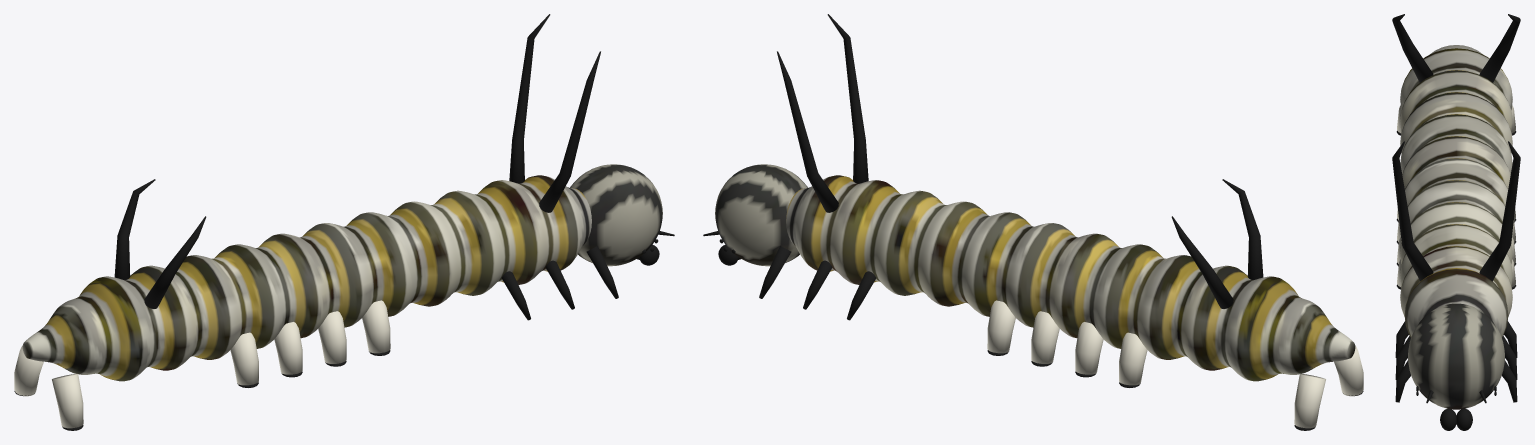
File: monarch_larva_hybrid.glb
The picture shows the model from 3 angles, left to right: view 1: azimuth 30°, elevation 25°; view 2: azimuth 150°, elevation 25°; view 3: azimuth 270°, elevation 25°; orthographic projection. The views are drawn at different scales.
Parts seen in each view (by area): view 1: LarvaContinuousBody, LarvaHead, TentacleSurfaceFrontR, TentacleSurfaceFrontL, ProlegA10L, ProlegA3L, ProlegA4L, ProlegA5L, ProlegA6L, TentacleSurfaceRearR, TentacleSurfaceRearL, ProlegA10R; view 2: LarvaContinuousBody, LarvaHead, TentacleSurfaceFrontL, TentacleSurfaceFrontR, ProlegA10R, ProlegA3R, ProlegA4R, ProlegA5R, ProlegA6R, TentacleSurfaceRearL, TentacleSurfaceRearR, ProlegA10L; view 3: LarvaContinuousBody, LarvaHead, TentacleSurfaceFrontL, TentacleSurfaceFrontR, TentacleSurfaceRearL, TentacleSurfaceRearR, ThoracicLeg1L, ThoracicLeg1R, MandibleSurfaceL, MandibleSurfaceR, ThoracicLeg2L, ThoracicLeg2R (+2 smaller).
Part boxes in pixels (left/top/right/bottom): LarvaContinuousBody: left=22, top=175, right=591, bottom=381; LarvaHead: left=570, top=164, right=662, bottom=266; TentacleSurfaceFrontR: left=509, top=14, right=550, bottom=183; TentacleSurfaceFrontL: left=539, top=51, right=600, bottom=212; ProlegA10L: left=52, top=373, right=83, bottom=428; ProlegA3L: left=362, top=300, right=390, bottom=353; ProlegA4L: left=318, top=311, right=346, bottom=363; ProlegA5L: left=274, top=322, right=302, bottom=374; ProlegA6L: left=230, top=332, right=258, bottom=385; TentacleSurfaceRearR: left=114, top=179, right=155, bottom=279; TentacleSurfaceRearL: left=144, top=216, right=206, bottom=308; ProlegA10R: left=14, top=346, right=43, bottom=396; LarvaContinuousBody: left=786, top=175, right=1355, bottom=381; LarvaHead: left=715, top=164, right=807, bottom=266; TentacleSurfaceFrontL: left=827, top=14, right=868, bottom=183; TentacleSurfaceFrontR: left=777, top=51, right=838, bottom=212; ProlegA10R: left=1294, top=373, right=1325, bottom=428; ProlegA3R: left=987, top=300, right=1015, bottom=353; ProlegA4R: left=1031, top=311, right=1059, bottom=363; ProlegA5R: left=1075, top=322, right=1103, bottom=374; ProlegA6R: left=1119, top=332, right=1147, bottom=385; TentacleSurfaceRearL: left=1222, top=179, right=1263, bottom=279; TentacleSurfaceRearR: left=1171, top=216, right=1233, bottom=308; ProlegA10L: left=1334, top=346, right=1363, bottom=396; LarvaContinuousBody: left=1400, top=45, right=1512, bottom=337; LarvaHead: left=1408, top=303, right=1504, bottom=409; TentacleSurfaceFrontL: left=1392, top=141, right=1433, bottom=281; TentacleSurfaceFrontR: left=1479, top=141, right=1520, bottom=281; TentacleSurfaceRearL: left=1392, top=14, right=1433, bottom=82; TentacleSurfaceRearR: left=1479, top=14, right=1520, bottom=82; ThoracicLeg1L: left=1395, top=360, right=1410, bottom=402; ThoracicLeg1R: left=1502, top=360, right=1517, bottom=402; MandibleSurfaceL: left=1440, top=408, right=1456, bottom=430; MandibleSurfaceR: left=1456, top=408, right=1472, bottom=430; ThoracicLeg2L: left=1395, top=336, right=1410, bottom=379; ThoracicLeg2R: left=1502, top=336, right=1517, bottom=379.
Bounding box in the file's own units: 0.0433 × 0.0163 × 0.00742.
